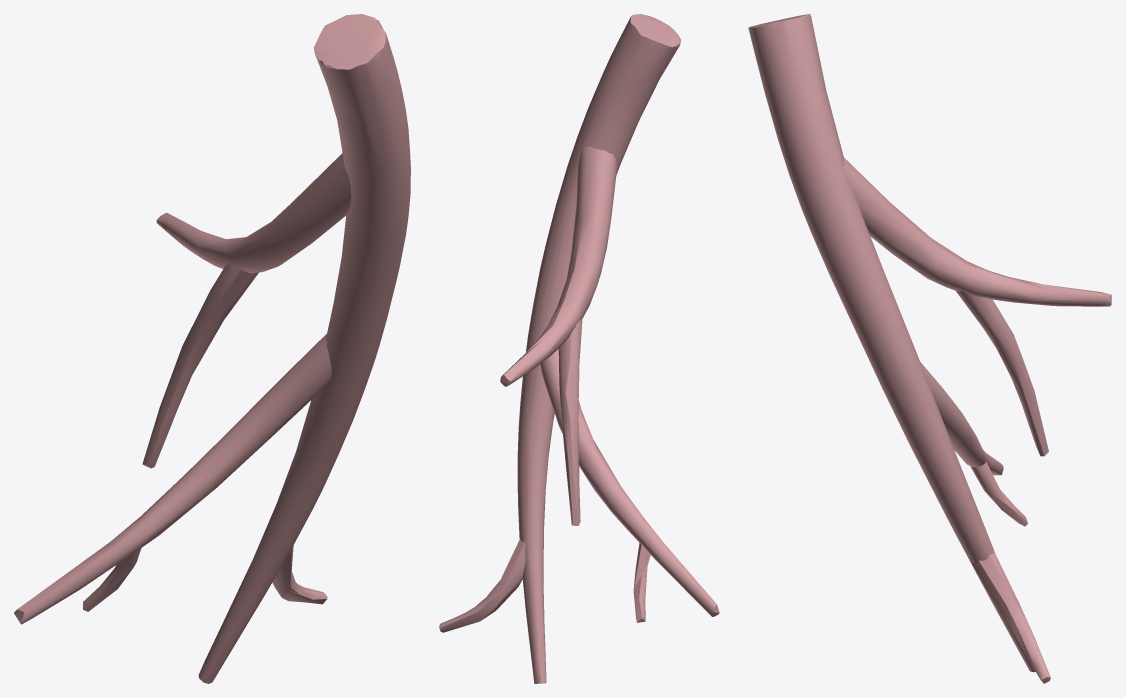
The model's file is fma68233_cx170.glb.
The picture shows the model from 3 angles, left to right: view 1: azimuth 30°, elevation 25°; view 2: azimuth 150°, elevation 25°; view 3: azimuth 270°, elevation 25°; orthographic projection. The views are drawn at different scales.
Visible parts, largest first — view 1: FMA68233_CX170; view 2: FMA68233_CX170; view 3: FMA68233_CX170.
Part boxes in pixels (x1,y1,x2,y2): FMA68233_CX170: (14, 14, 410, 683); FMA68233_CX170: (439, 14, 719, 683); FMA68233_CX170: (748, 14, 1111, 683).
Bounding box in the file's own units: 0.0469 × 0.1017 × 0.0508.
